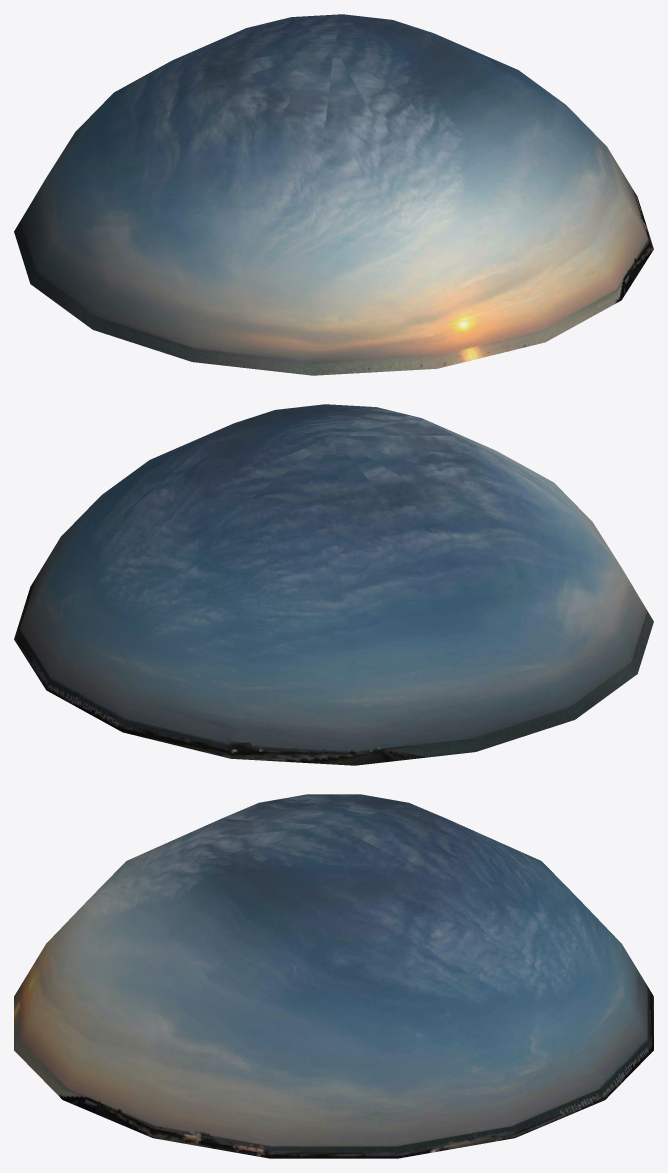
The model's file is Static_Scene (merge).fbx.
The picture shows the model from 3 angles, top to bottom: view 1: azimuth 30°, elevation 25°; view 2: azimuth 150°, elevation 25°; view 3: azimuth 270°, elevation 25°; orthographic projection.
Visible parts, largest first — view 1: street_sky; view 2: street_sky; view 3: street_sky.
Boxes of the visible parts, bbox=[...] form: street_sky: bbox=[14, 14, 653, 375]; street_sky: bbox=[14, 404, 653, 765]; street_sky: bbox=[14, 794, 653, 1158].
Size of the model in its own units: 382 by 138 by 382.
Materials: 6 (6 with a texture image).
